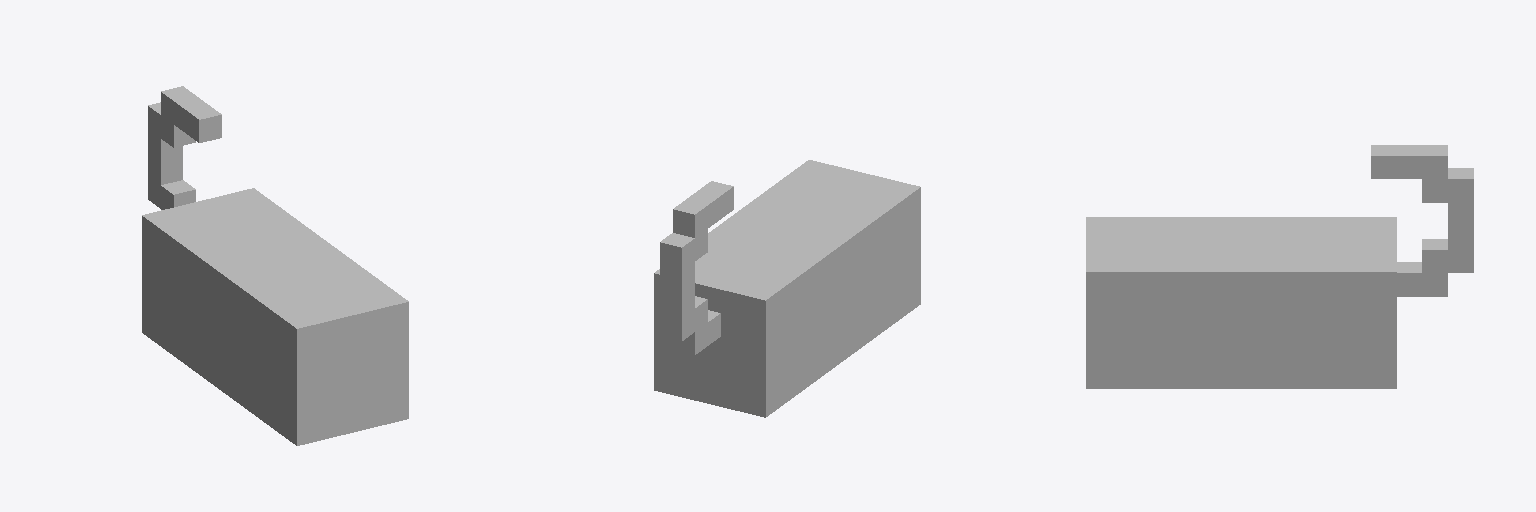
File: cattorso.obj
3 renders of one model, left to right at view 1: azimuth 30°, elevation 25°; view 2: azimuth 150°, elevation 25°; view 3: azimuth 270°, elevation 25°, orthographic.
Visible parts, largest first — view 1: Cat.001; view 2: Cat.001; view 3: Cat.001.
Boxes of the visible parts, <box> form: Cat.001: <box>142,86,408,445</box>; Cat.001: <box>654,160,920,417</box>; Cat.001: <box>1086,145,1473,388</box>.
Size of the model in its own units: 5 by 9 by 15.